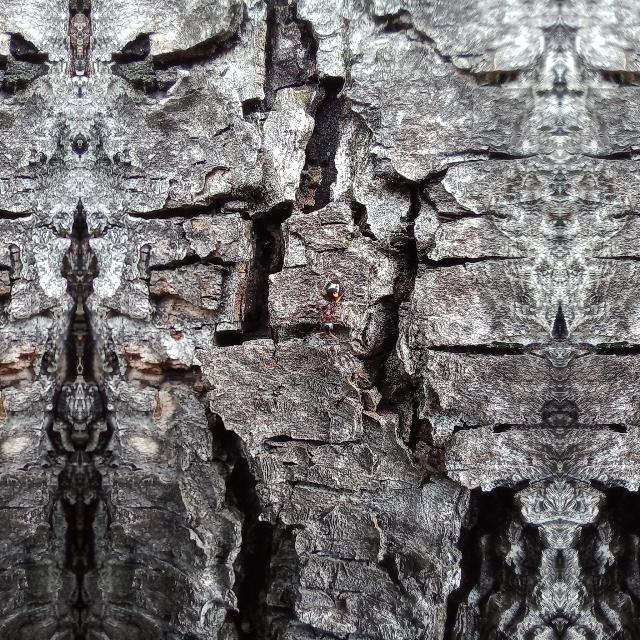Dolichoderus: (314, 266, 352, 340)
